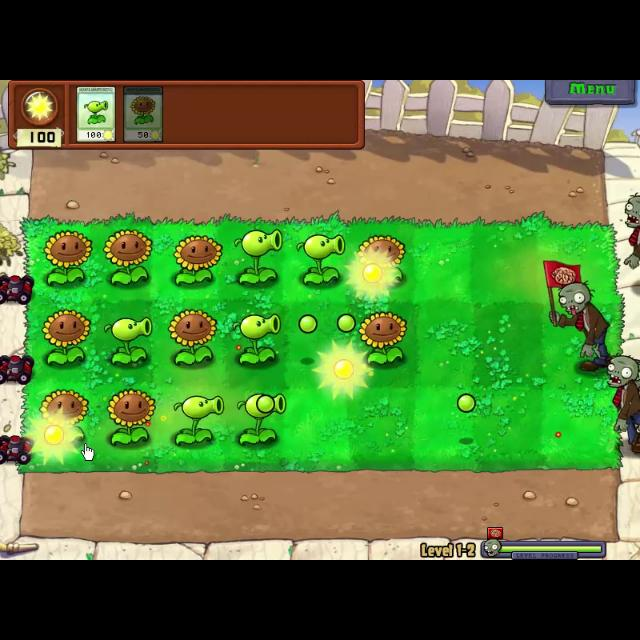Flag Zombie: (541, 258, 621, 374)
Garden: (20, 216, 626, 472)
Menu Button: (546, 80, 638, 106)
Mower: (0, 272, 34, 306), (0, 352, 32, 384), (1, 434, 32, 464)
Peashooter: (75, 85, 118, 145)
Peashooter Seed: (232, 226, 286, 288), (233, 388, 289, 446), (103, 311, 157, 369), (294, 228, 346, 288), (170, 392, 223, 448), (232, 309, 282, 365)
Seed Panel: (6, 80, 368, 152)
Sun: (312, 339, 376, 403), (29, 406, 80, 470), (343, 248, 399, 302)
Sunflower: (122, 84, 164, 144)
Sunflower Seed: (38, 306, 90, 368), (169, 235, 225, 291), (99, 227, 151, 287), (42, 228, 92, 290), (167, 306, 217, 368), (104, 384, 152, 448), (358, 310, 406, 366), (36, 387, 90, 428), (359, 234, 409, 270)
Zombie: (608, 353, 640, 455), (624, 191, 640, 271)
